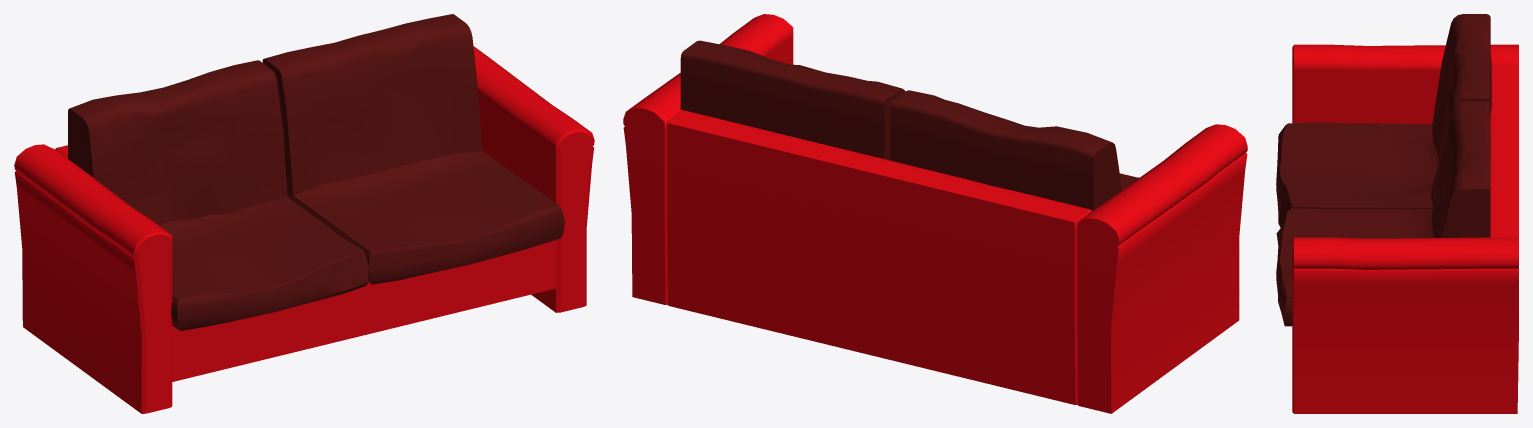
The model's file is Couch.fbx.
3 views of the same model, side by side, from view 1: azimuth 30°, elevation 25°; view 2: azimuth 150°, elevation 25°; view 3: azimuth 270°, elevation 25° (orthographic). The views are drawn at different scales.
Visible parts, largest first — view 1: Pillows, Couch; view 2: Couch, Pillows; view 3: Couch, Pillows.
Part boxes in pixels (bbox=[...]): Pillows: bbox=[68, 14, 564, 330]; Couch: bbox=[14, 46, 594, 413]; Couch: bbox=[623, 14, 1247, 413]; Pillows: bbox=[680, 40, 1139, 210]; Couch: bbox=[1292, 44, 1518, 413]; Pillows: bbox=[1276, 14, 1491, 326].
Size of the model in its own units: 178 by 83.87 by 86.39.
